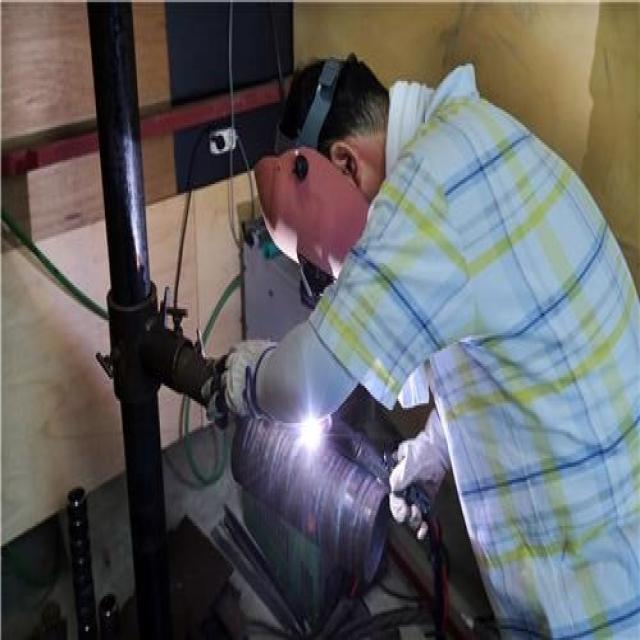welding: (300, 411, 326, 450)
